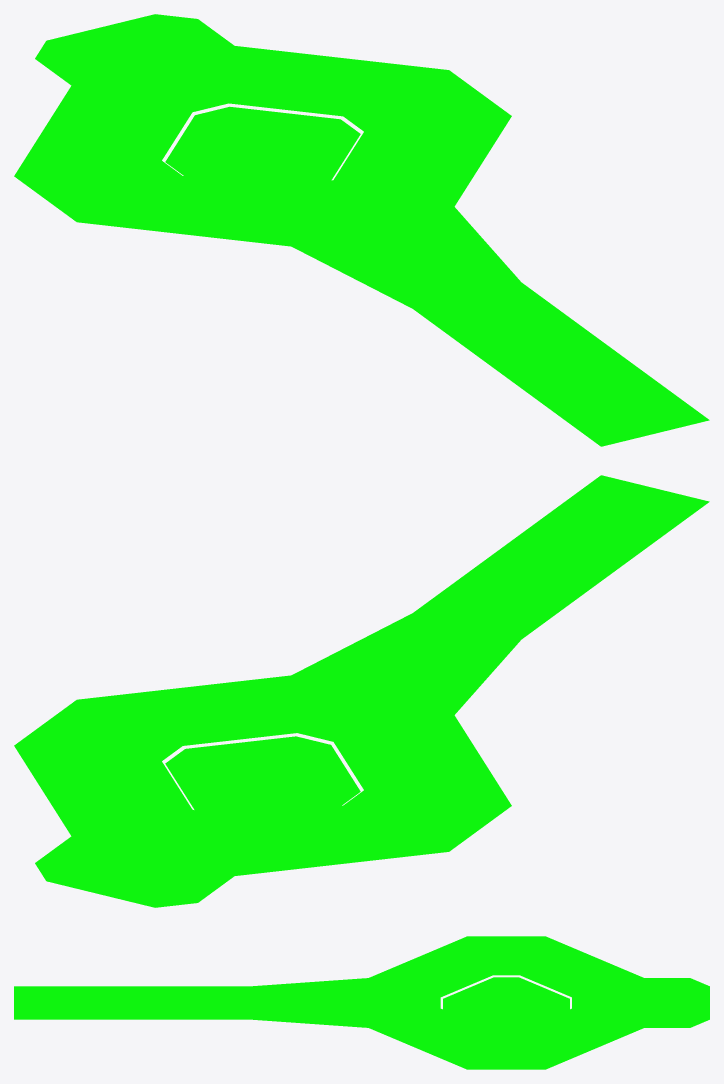
Rendered from s06b_na1-floor.glb.
3 renders of one model, top to bottom at view 1: azimuth 30°, elevation 25°; view 2: azimuth 150°, elevation 25°; view 3: azimuth 270°, elevation 25°, orthographic. The views are drawn at different scales.
Parts seen in each view (by area): view 1: collision_floor-colonly; view 2: collision_floor-colonly; view 3: collision_floor-colonly.
Boxes of the visible parts, x1,y1,x2,y2 form: collision_floor-colonly: (14,14,709,446); collision_floor-colonly: (14,475,709,907); collision_floor-colonly: (14,936,709,1069).
Size of the model in its own units: 24 by 0.0996 by 53.
